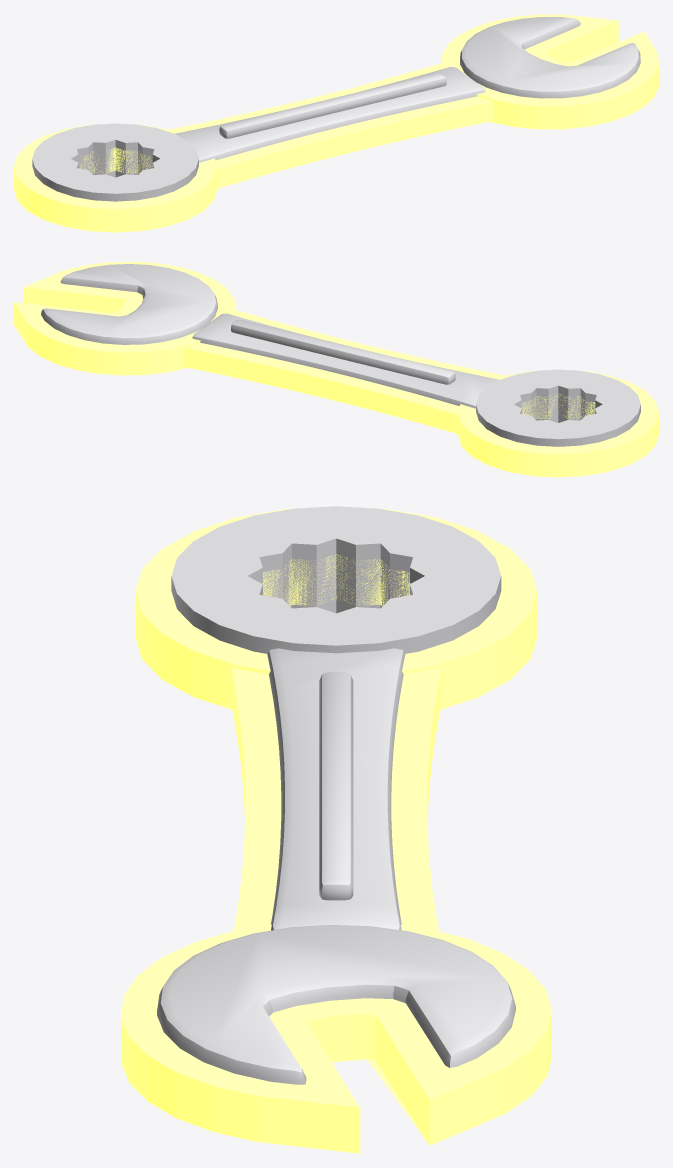
The model's file is wrench.glb.
3 views of the same model, one above another, from view 1: azimuth 30°, elevation 25°; view 2: azimuth 150°, elevation 25°; view 3: azimuth 270°, elevation 25° (orthographic). The views are drawn at different scales.
Visible parts, largest first — view 1: wrench; view 2: wrench; view 3: wrench.
Part boxes in pixels (x1,y1,x2,y2): wrench: [14, 14, 658, 232]; wrench: [14, 261, 658, 477]; wrench: [121, 506, 551, 1153].
Bounding box in the file's own units: 0.6733 × 0.05 × 0.2041.
